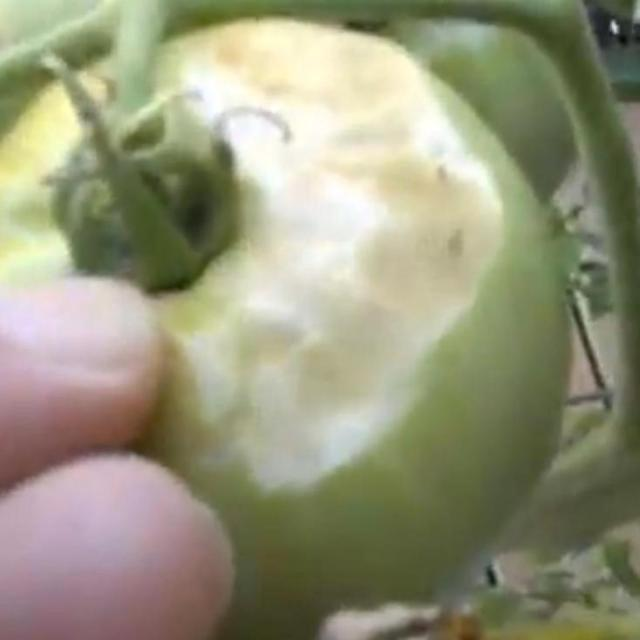Sunscald Fruit: (118, 13, 340, 341)
